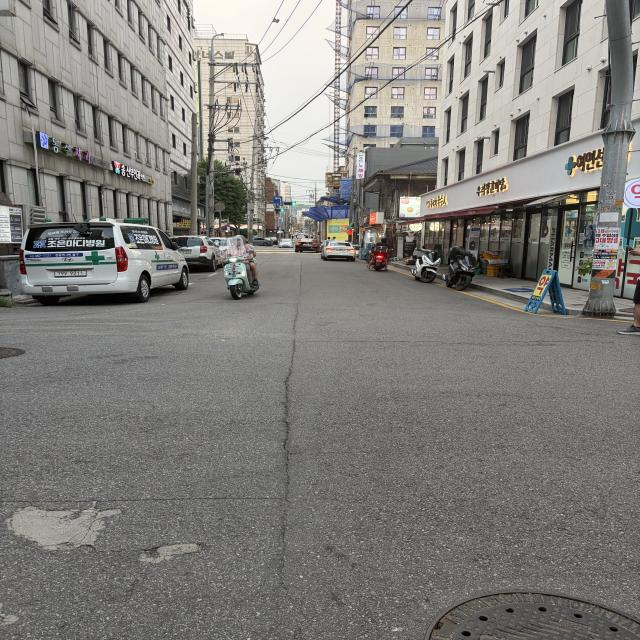motorcycle: (214, 229, 269, 303)
